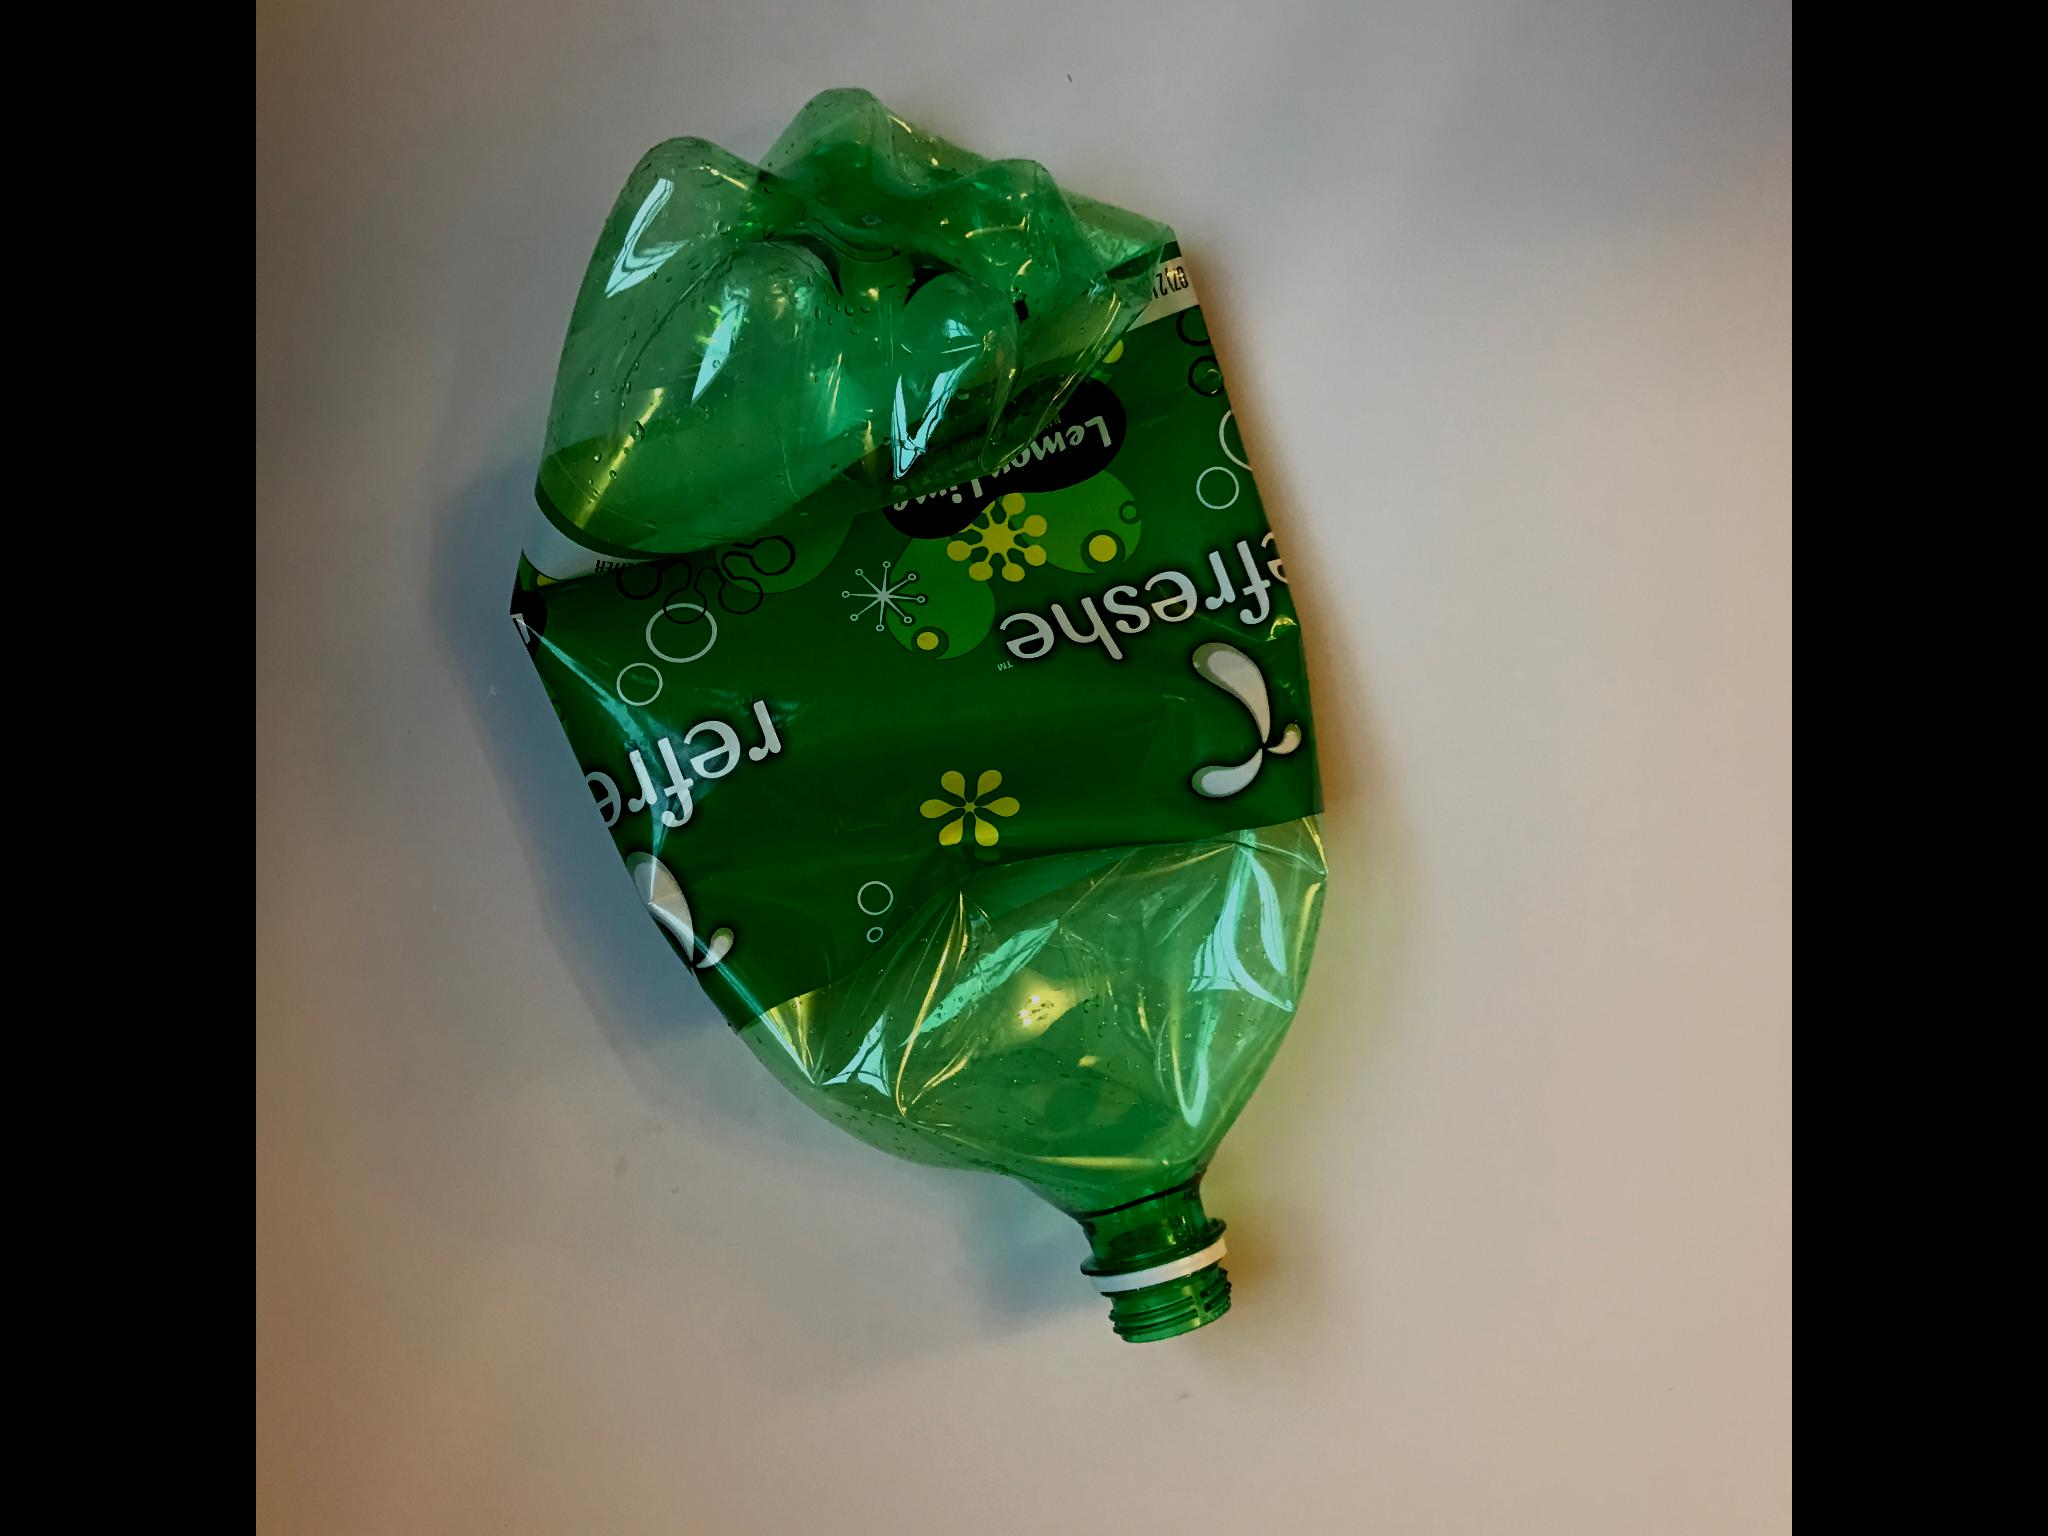Plastic: (490, 69, 1335, 1359)
